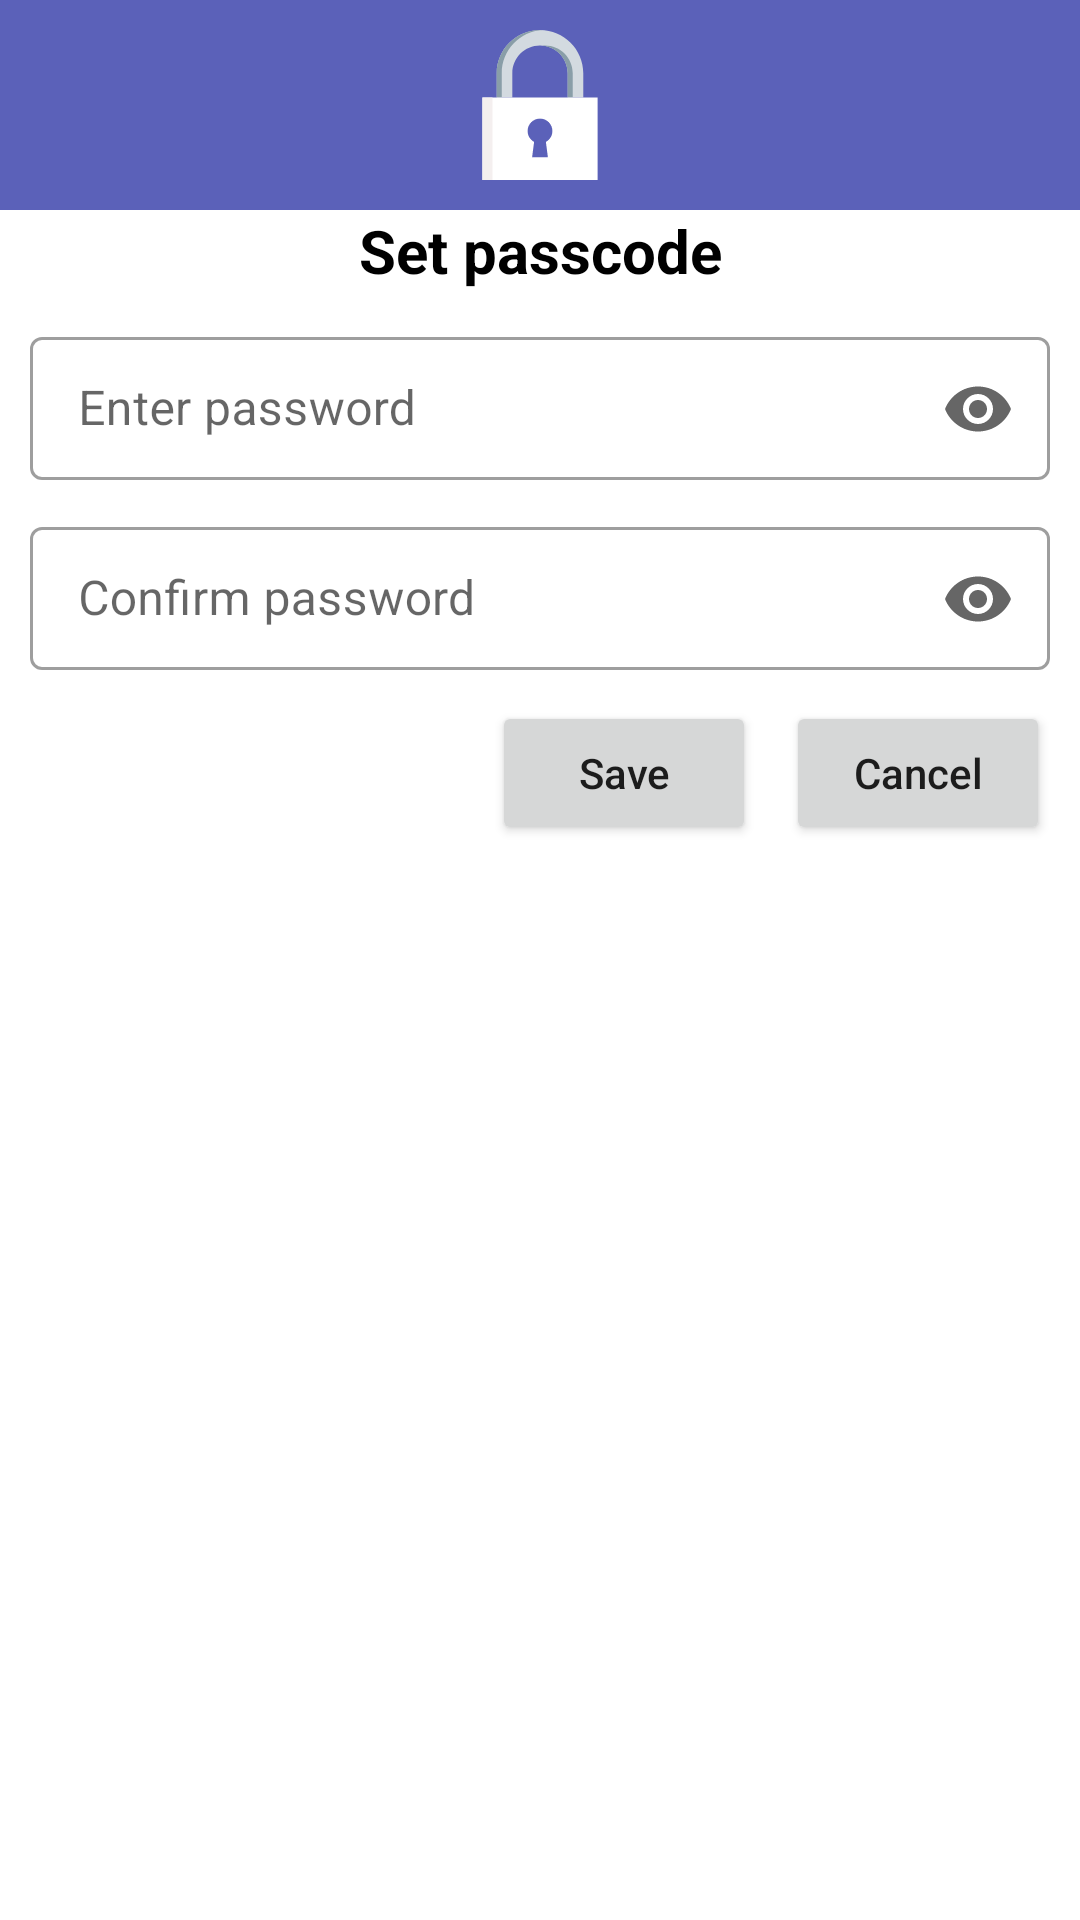

Screen size 1080 x 1920. Icon name, then its center in pixels as (x=x, y=y):
lock: (x=540, y=105)
